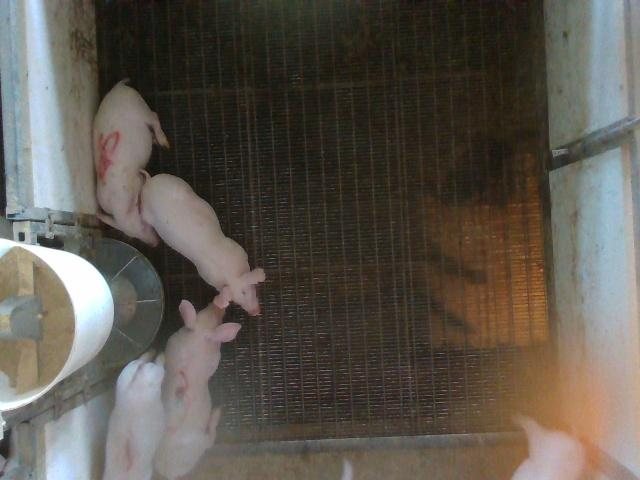pig-1: (102, 350, 165, 478)
pig-3: (154, 300, 241, 479)
pig-5: (94, 80, 169, 246)
